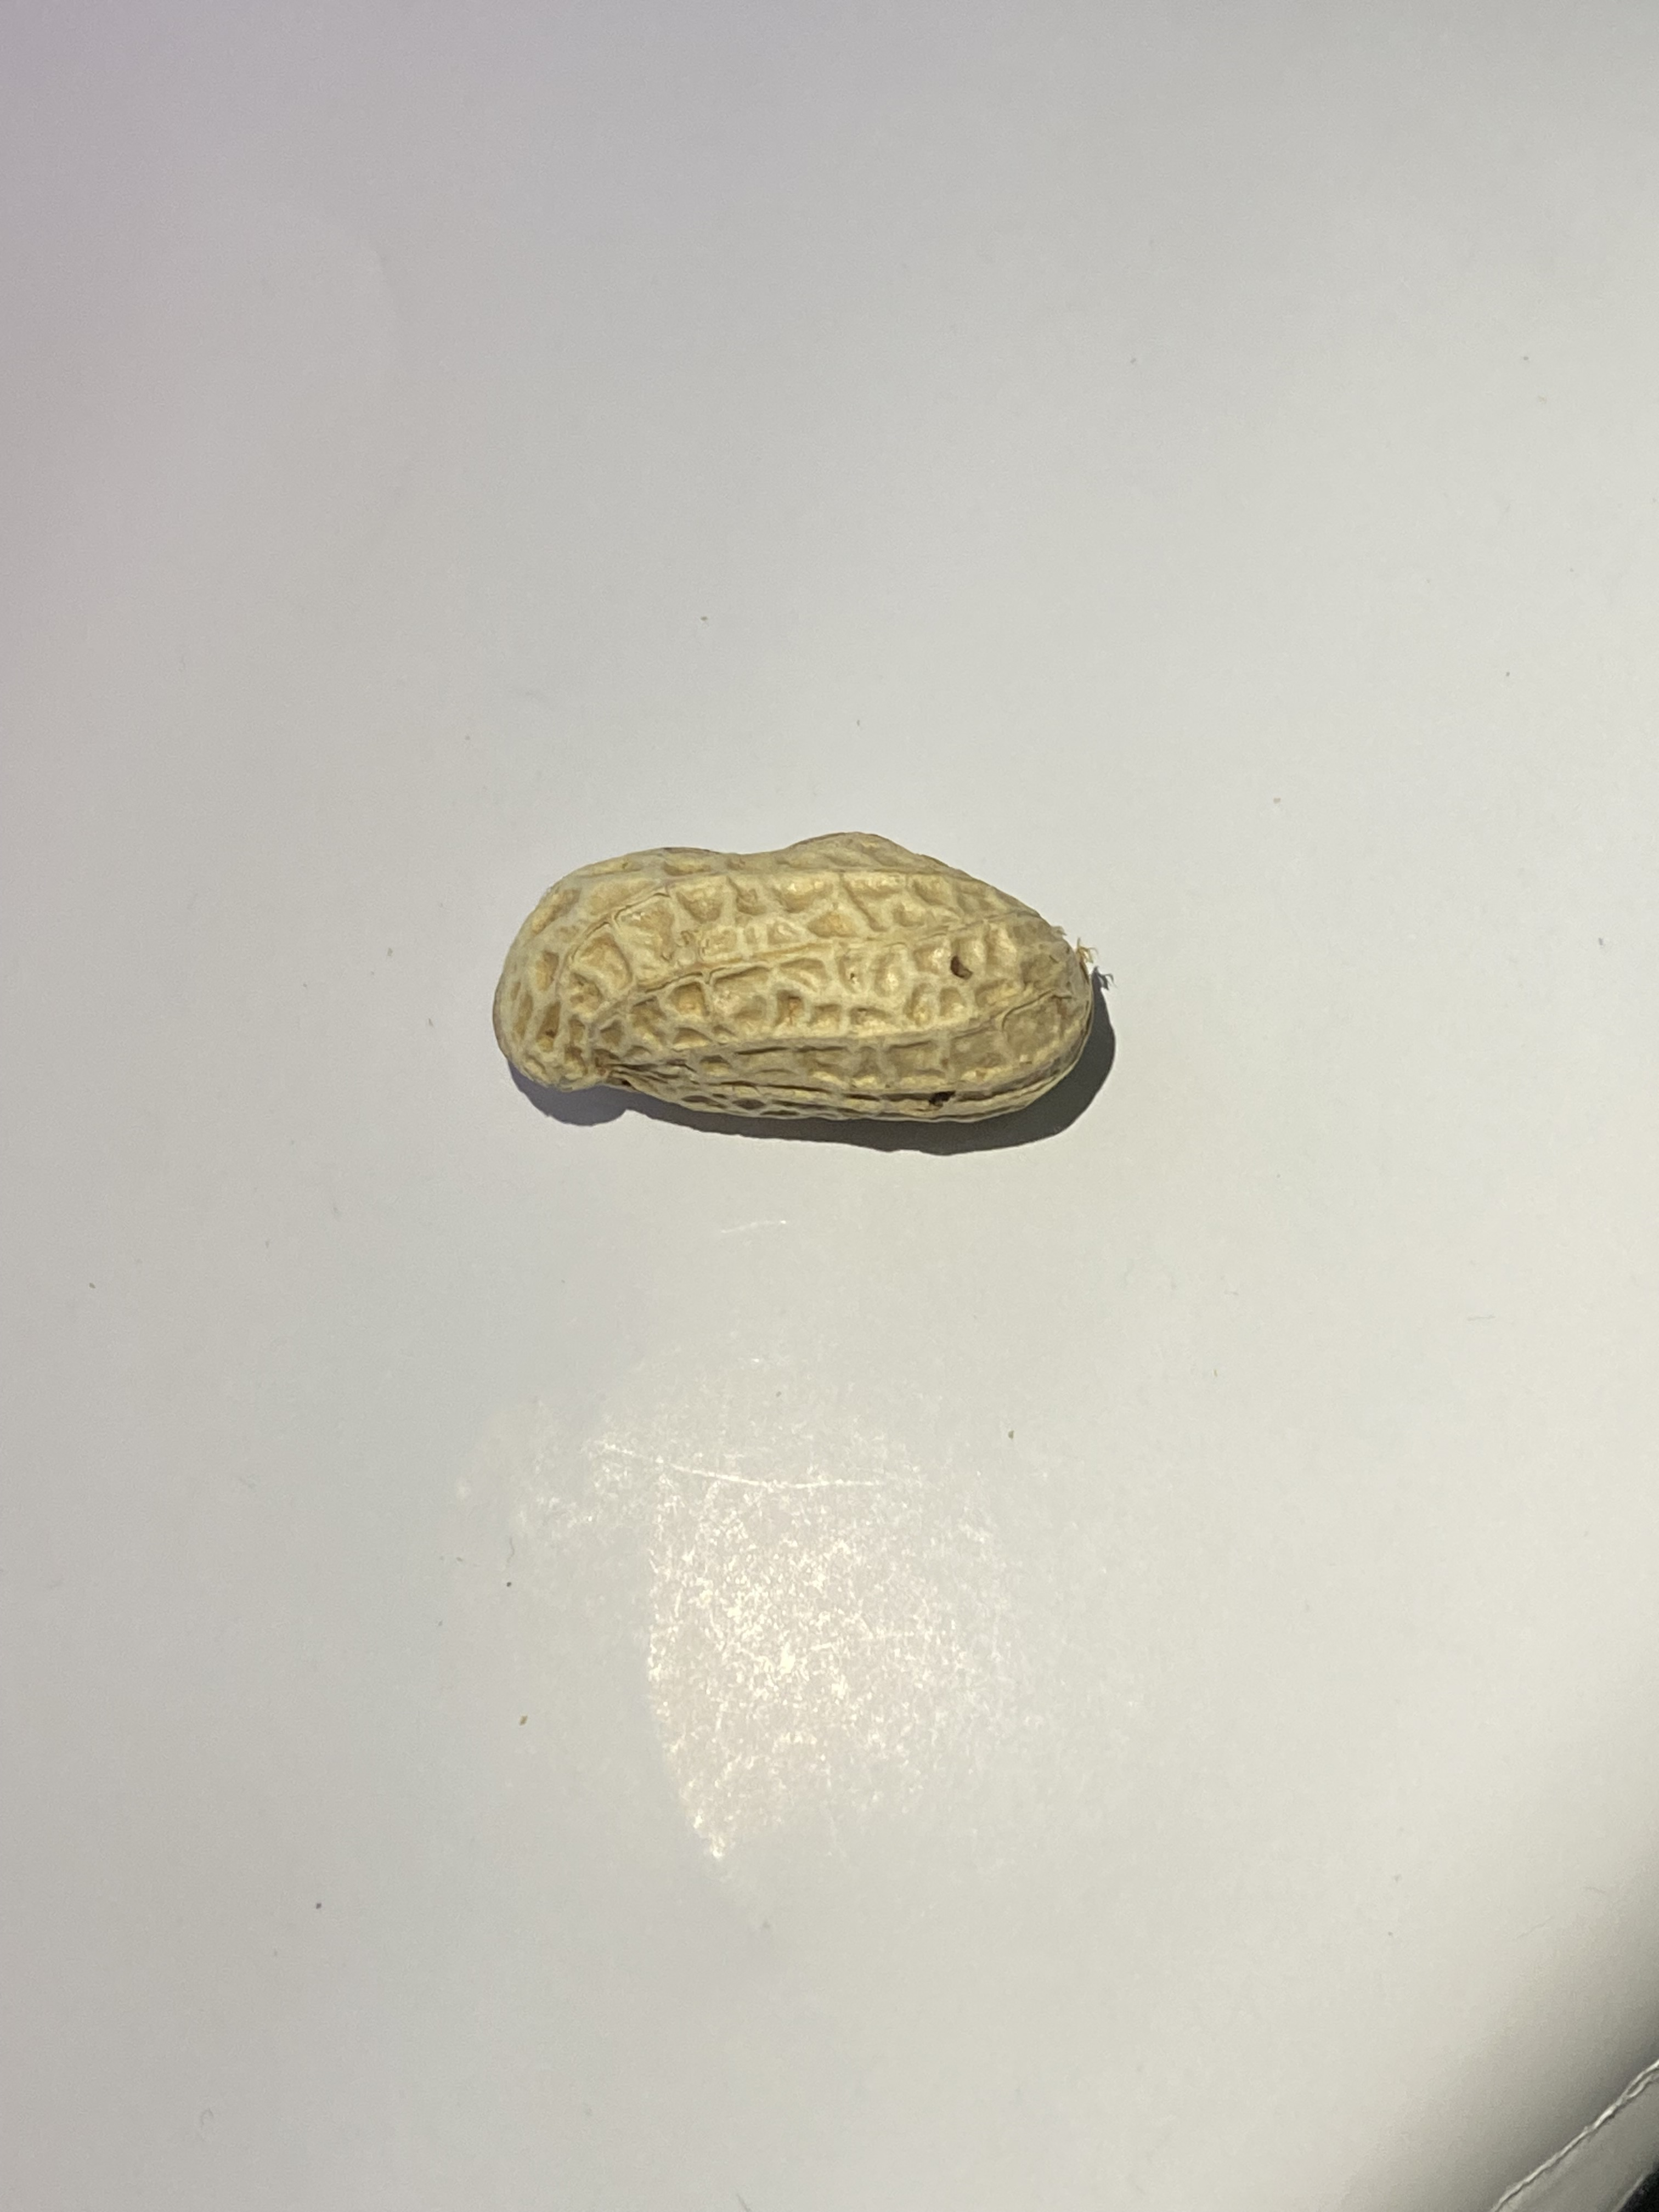kacang2: (460, 812, 1126, 1181)
